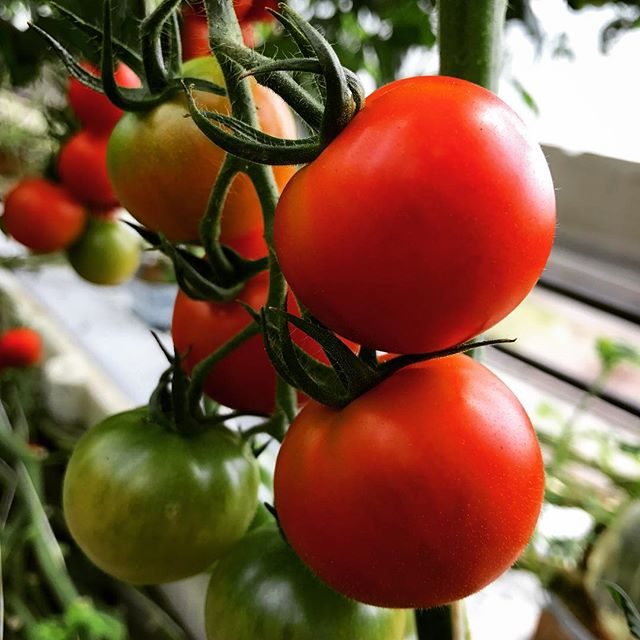stems: (230, 42, 342, 148), (185, 306, 269, 419), (296, 305, 367, 395), (199, 134, 235, 279), (140, 1, 183, 102)
tomato: (273, 74, 559, 352), (270, 347, 546, 610), (105, 53, 322, 264), (63, 402, 260, 587), (176, 247, 371, 414), (204, 515, 417, 640)
